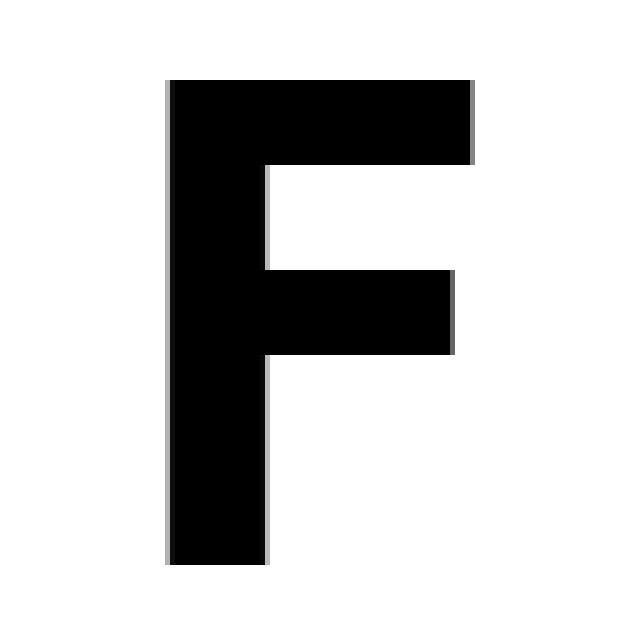F: (160, 75, 475, 565)
